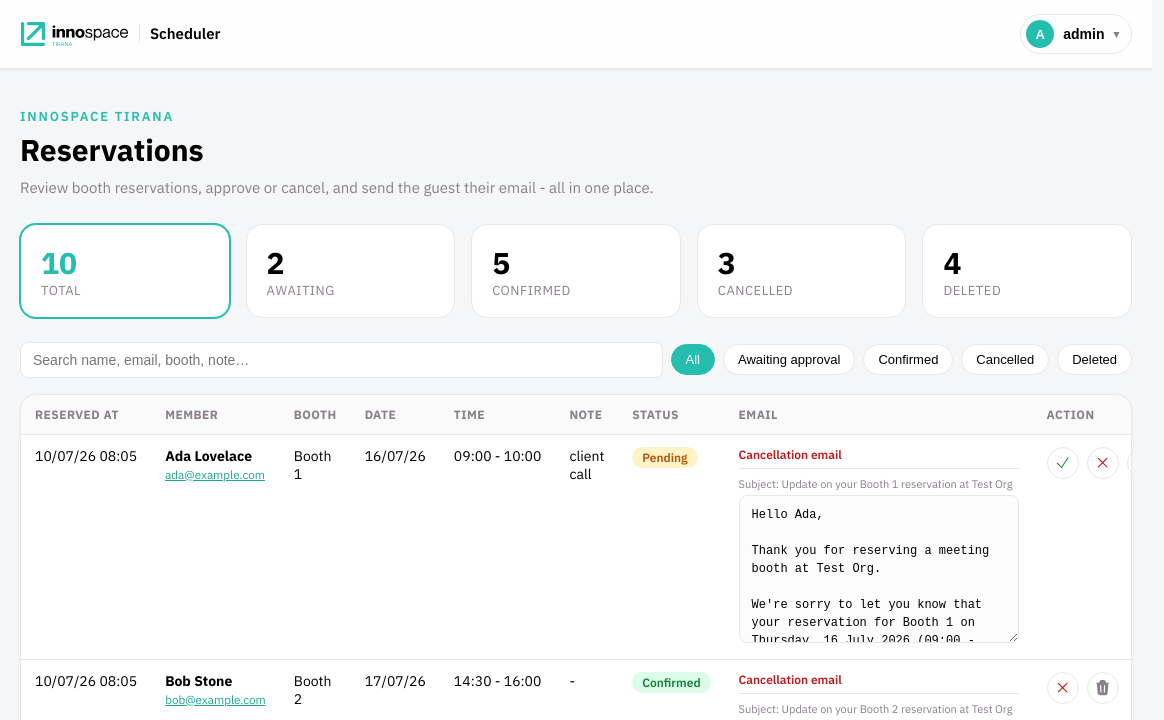
Test case: filtering › asks once for a filter with no rows, and says there is nothing to show
Step 1. Click the button "Deleted" → (1095, 360), box [1057,344,1132,375]
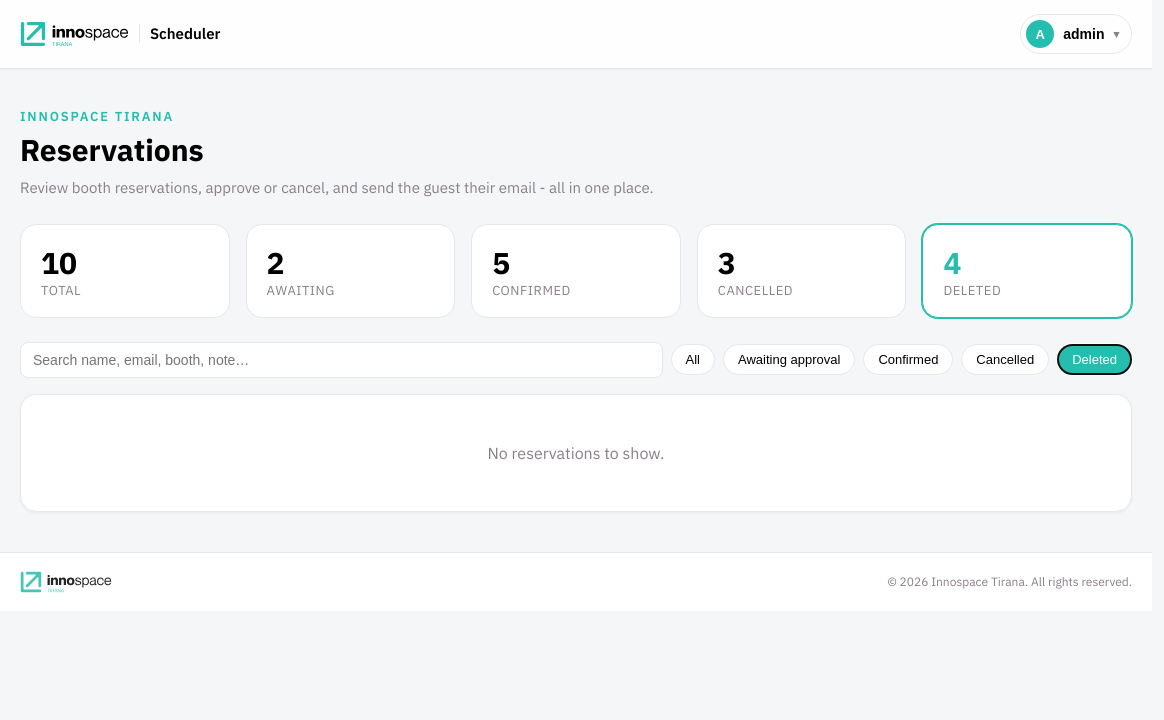
Expected: the text with class "empty" reads "No reservations to show.", [488,442,664,462]
